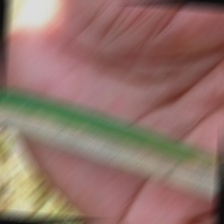Leaf_Blast: (0, 124, 211, 179)
